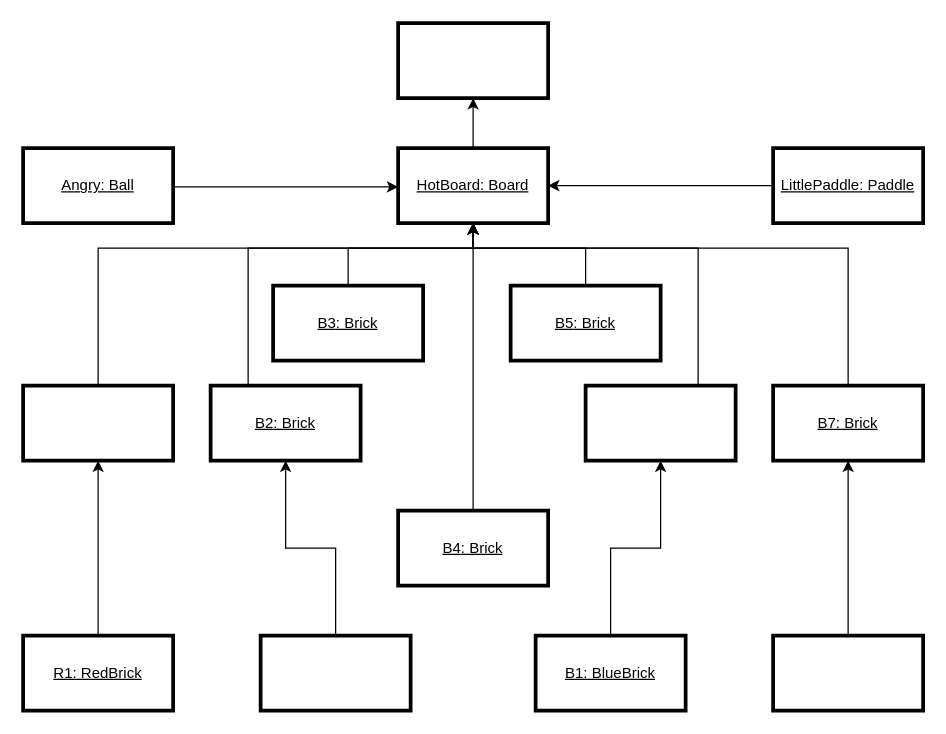
The diagram is 946 pixels wide and 734 high, and some of its shapes have lost their labels. Here are the shapes that lost their labels. From the top down, the centre of each, then its label:
At (472,60): "Paddling: Game".
At (97,422): "B1 : Brick".
At (660,422): "B6 : Brick".
At (335,672): "Y1: YellowBrick".
At (847,672): "G1: GreenBrick".
